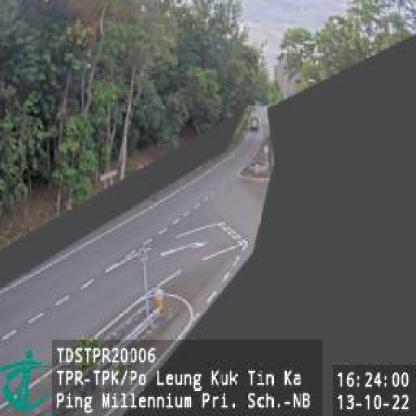Car: (250, 116, 260, 130)
